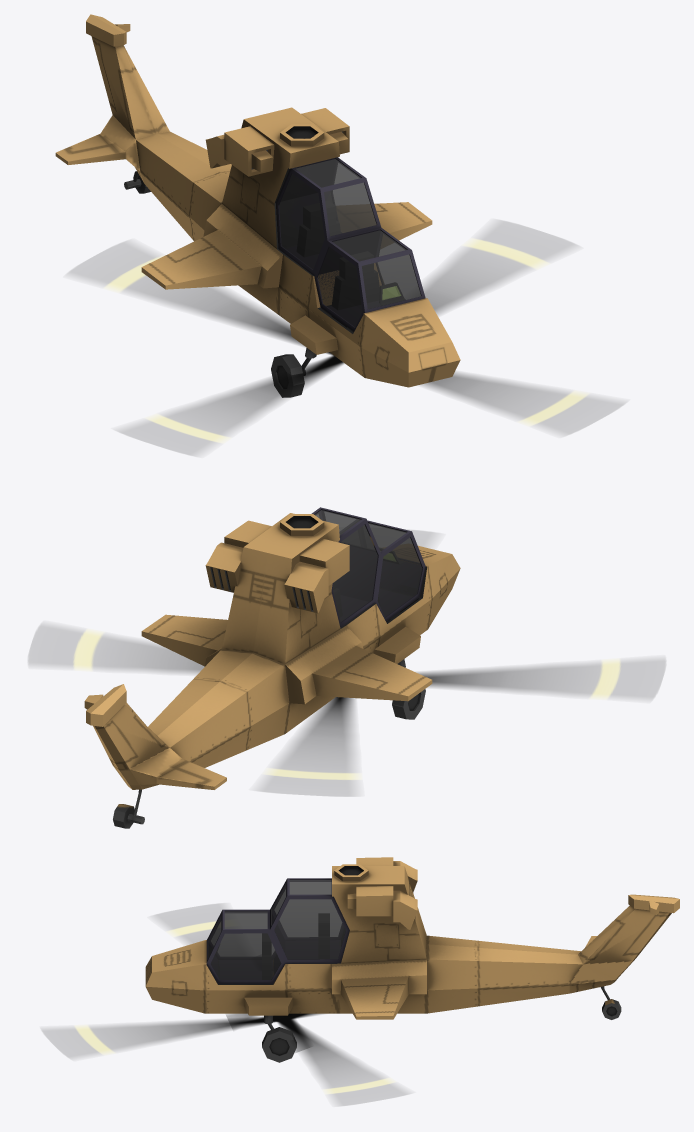
The model's file is 1791019973306-helishase.glb.
The picture shows the model from 3 angles, top to bottom: view 1: azimuth 30°, elevation 25°; view 2: azimuth 150°, elevation 25°; view 3: azimuth 270°, elevation 25°; orthographic projection. The views are drawn at different scales.
Parts seen in each view (by area): view 1: Cube, Plane.001; view 2: Cube, Plane.001; view 3: Cube, Plane.001.
Part boxes in pixels (x1,y1,x2,y2): Cube: [55, 14, 460, 397]; Plane.001: [70, 221, 622, 454]; Cube: [84, 507, 460, 828]; Plane.001: [28, 530, 664, 795]; Cube: [145, 857, 679, 1062]; Plane.001: [42, 904, 406, 1105].
Size of the model in its own units: 8.25 by 3.2 by 10.27.
5 materials, 5 textured.
